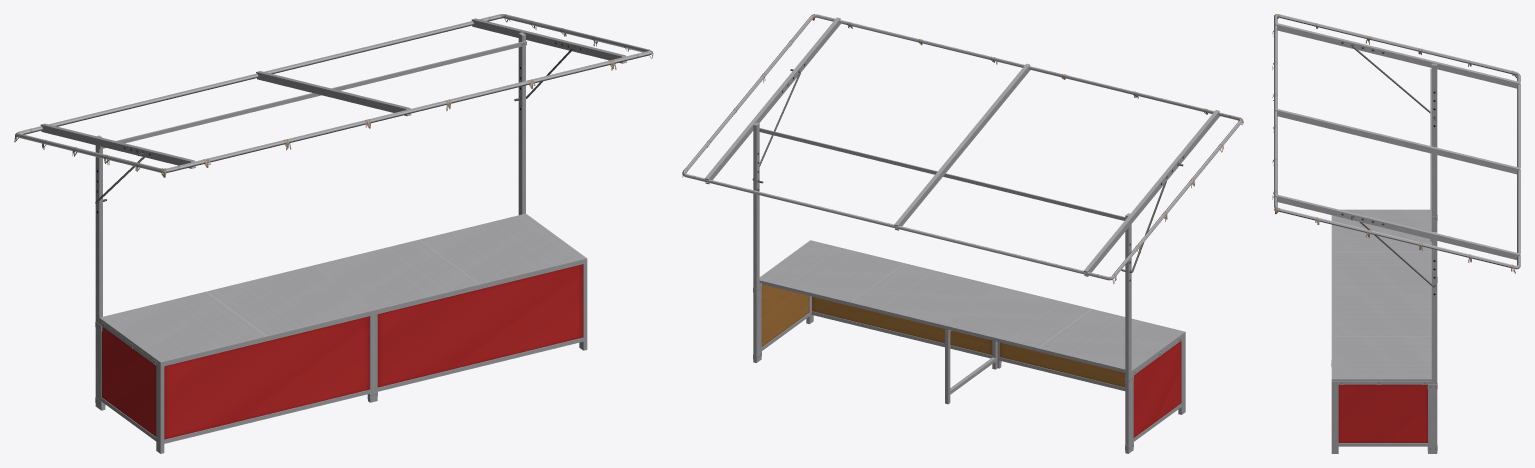
Rendered from jsf_2P_s04_c06_t01.fbx.
3 views of the same model, side by side, from view 1: azimuth 30°, elevation 25°; view 2: azimuth 150°, elevation 25°; view 3: azimuth 270°, elevation 25° (orthographic). The views are drawn at different scales.
Parts seen in each view (by area): view 1: Base_s04_c06, Table_2P_s04_t01, Pillar2_s04, Rope_2P_s04; view 2: Table_2P_s04_t01, Pillar2_s04, Base_s04_c06, Support; view 3: Table_2P_s04_t01, Pillar2_s04, Base_s04_c06, Rope_2P_s04.
Boxes of the visible parts, bbox=[...] form: Base_s04_c06: bbox=[95, 258, 587, 453]; Table_2P_s04_t01: bbox=[99, 213, 586, 365]; Pillar2_s04: bbox=[15, 14, 651, 408]; Rope_2P_s04: bbox=[14, 14, 653, 177]; Table_2P_s04_t01: bbox=[759, 240, 1184, 374]; Pillar2_s04: bbox=[682, 14, 1242, 453]; Base_s04_c06: bbox=[753, 240, 1185, 451]; Support: bbox=[945, 329, 997, 404]; Table_2P_s04_t01: bbox=[1332, 209, 1431, 384]; Pillar2_s04: bbox=[1274, 14, 1520, 453]; Base_s04_c06: bbox=[1331, 215, 1437, 453]; Rope_2P_s04: bbox=[1272, 14, 1516, 273].
Size of the model in its own units: 395 by 244 by 211.
